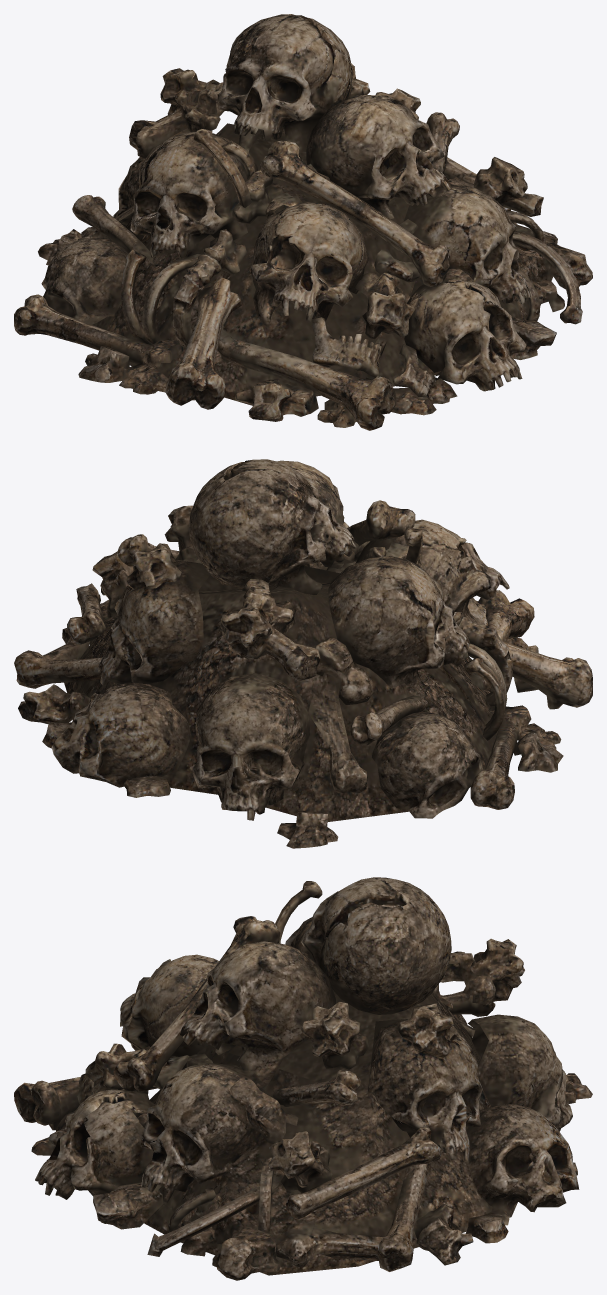
Rendered from source.glb.
3 renders of one model, top to bottom at view 1: azimuth 30°, elevation 25°; view 2: azimuth 150°, elevation 25°; view 3: azimuth 270°, elevation 25°, orthographic. The views are drawn at different scales.
Parts seen in each view (by area): view 1: tripo_node_7e26b674-1fc6-47b6-b1e4-463008bce1ff; view 2: tripo_node_7e26b674-1fc6-47b6-b1e4-463008bce1ff; view 3: tripo_node_7e26b674-1fc6-47b6-b1e4-463008bce1ff.
Part boxes in pixels (x1=…): tripo_node_7e26b674-1fc6-47b6-b1e4-463008bce1ff: x1=14, y1=14, x2=592, y2=430; tripo_node_7e26b674-1fc6-47b6-b1e4-463008bce1ff: x1=14, y1=459, x2=592, y2=848; tripo_node_7e26b674-1fc6-47b6-b1e4-463008bce1ff: x1=14, y1=877, x2=592, y2=1280.
Bounding box in the file's own units: 0.9995 × 0.5376 × 0.9683.
Materials: 1 (1 with a texture image).
